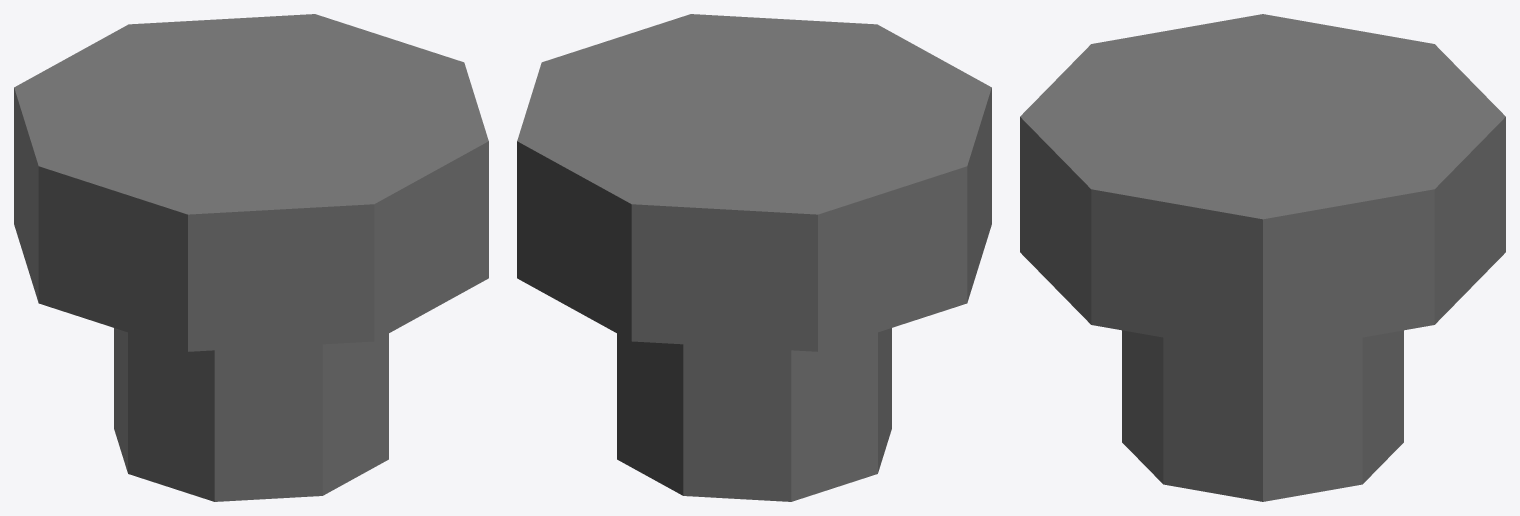
Rendered from Plumbing1_C2_03.fbx.
The picture shows the model from 3 angles, left to right: view 1: azimuth 30°, elevation 25°; view 2: azimuth 150°, elevation 25°; view 3: azimuth 270°, elevation 25°; orthographic projection.
Parts seen in each view (by area): view 1: Plumbing1_C2_03; view 2: Plumbing1_C2_03; view 3: Plumbing1_C2_03.
Part boxes in pixels (box(x1,y1,x2,y2)): Plumbing1_C2_03: box(14, 14, 488, 501); Plumbing1_C2_03: box(517, 14, 991, 501); Plumbing1_C2_03: box(1020, 14, 1505, 501).
Bounding box in the file's own units: 2.73 × 2.02 × 2.73.
